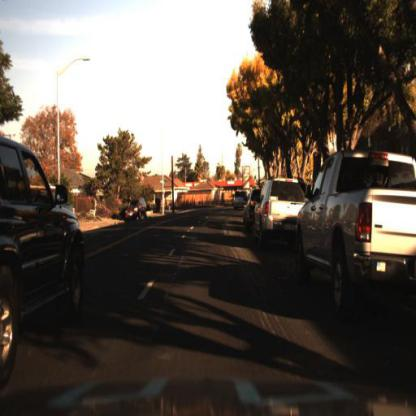car: (294, 150, 416, 323), (1, 141, 88, 381), (252, 175, 311, 246), (242, 185, 262, 237), (123, 195, 150, 223), (126, 196, 147, 222), (233, 189, 251, 213)
